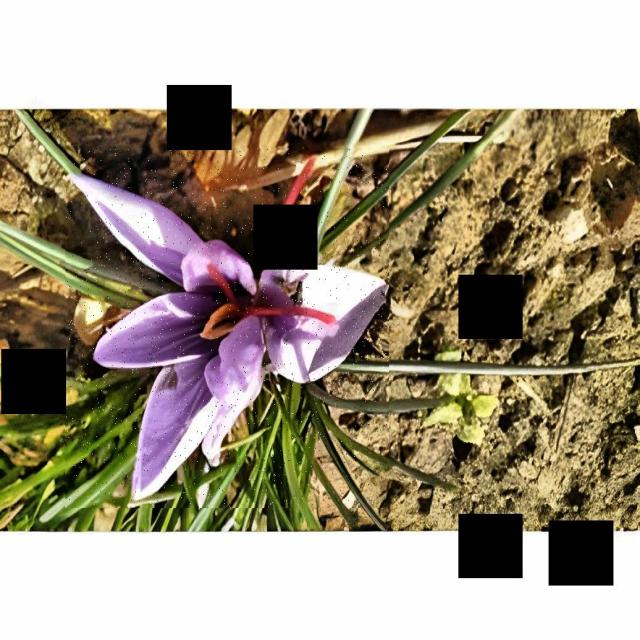Flower: (68, 168, 388, 502)
stigma: (242, 303, 340, 333), (282, 152, 321, 206), (204, 258, 233, 302)
